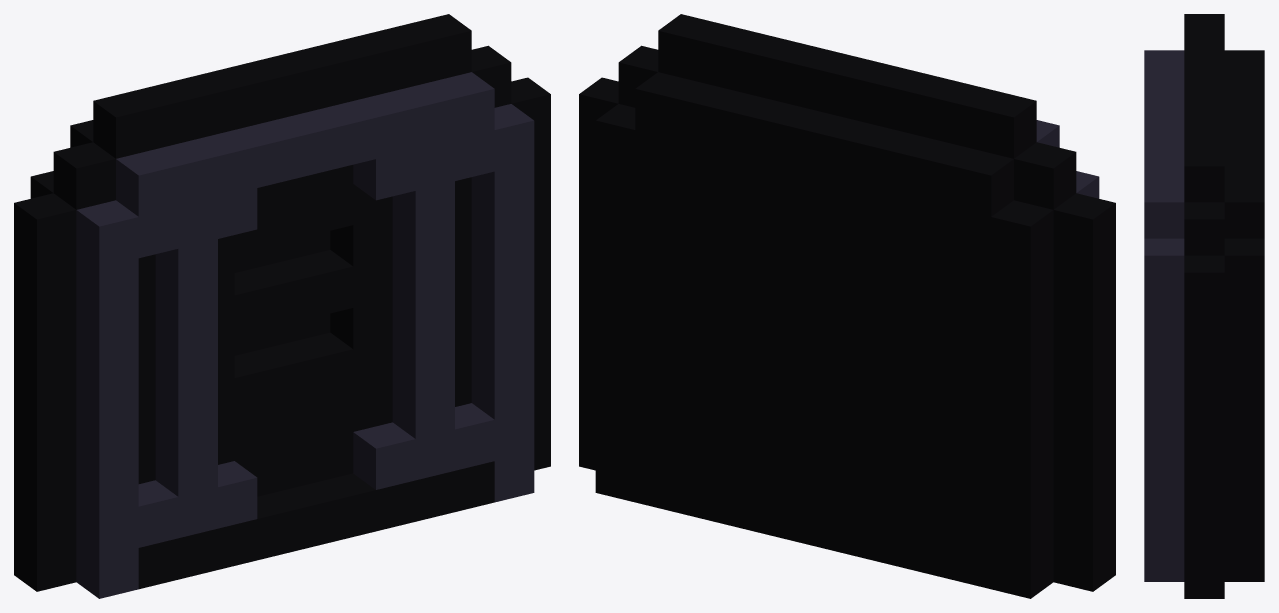
File: church-58-gy_tombstone1.glb
3 renders of one model, left to right at view 1: azimuth 30°, elevation 25°; view 2: azimuth 150°, elevation 25°; view 3: azimuth 270°, elevation 25°, orthographic. The views are drawn at different scales.
Visible parts, largest first — view 1: gy_tombstone1; view 2: gy_tombstone1; view 3: gy_tombstone1.
Boxes of the visible parts, box(x1,y1,x2,y2) form: gy_tombstone1: box(14, 14, 550, 598); gy_tombstone1: box(579, 14, 1115, 598); gy_tombstone1: box(1144, 14, 1264, 598).
Bounding box in the file's own units: 1.3 × 1.1 × 0.3.
Materials: 1 (1 with a texture image).
